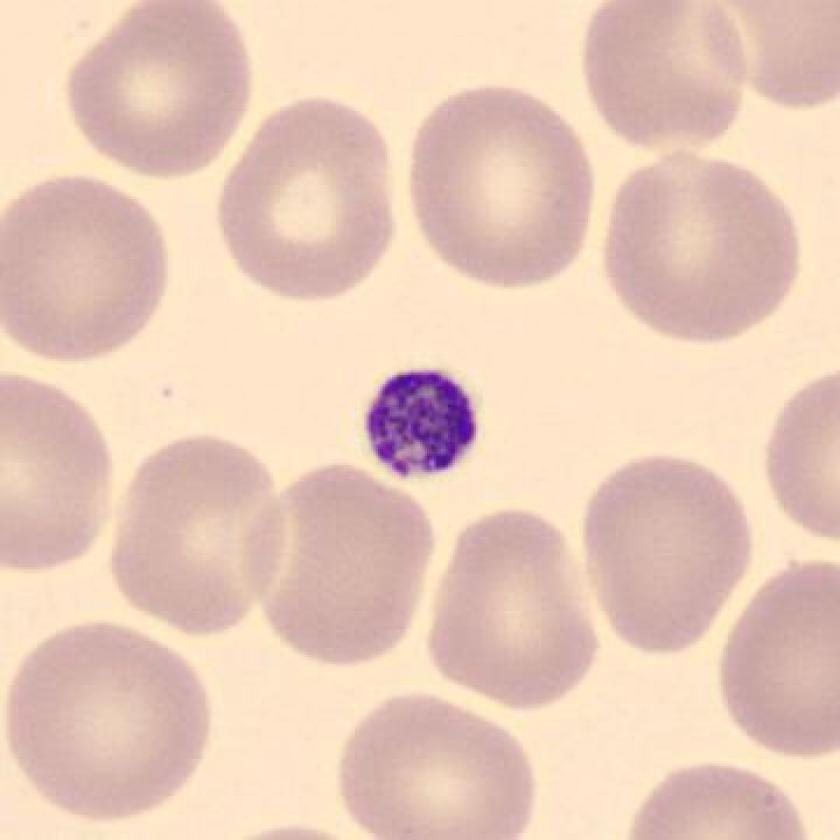platelets: (351, 360, 496, 489)
